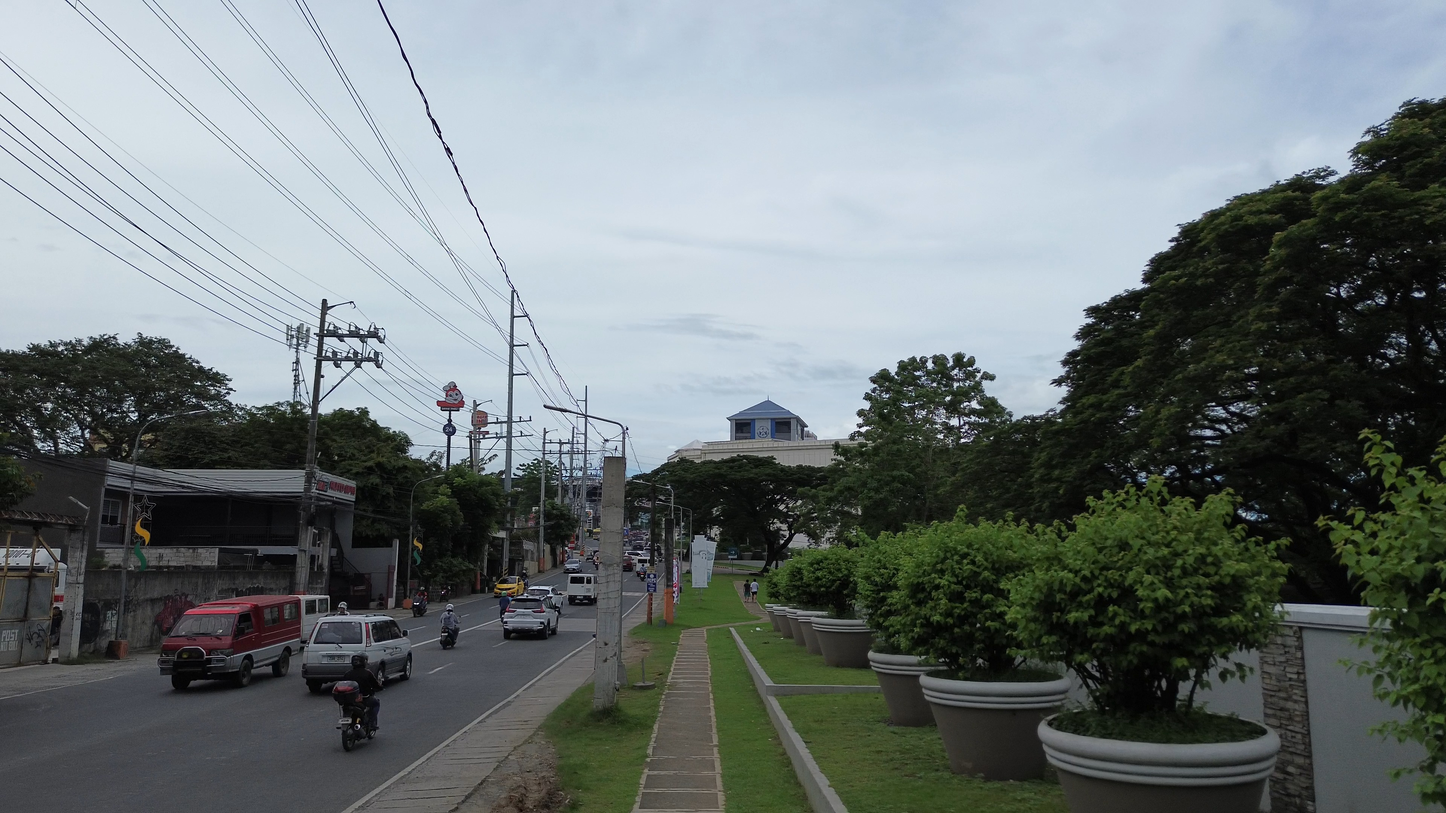motorcycle: (332, 681, 376, 751), (439, 627, 458, 649), (412, 598, 427, 617)
vehicle: (158, 596, 302, 689), (302, 614, 412, 693), (501, 596, 560, 638), (297, 595, 331, 647), (523, 586, 565, 614), (567, 574, 596, 604), (494, 576, 526, 597), (412, 596, 427, 617), (565, 558, 583, 573), (621, 554, 634, 571)
